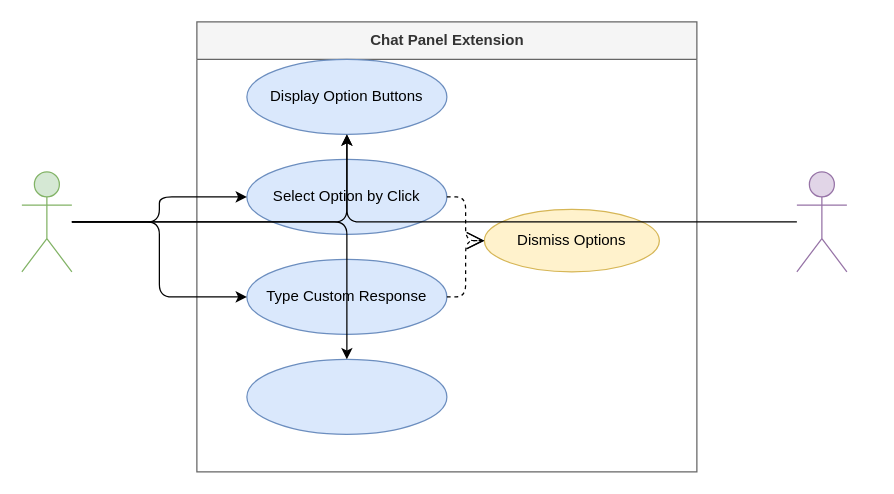
The diagram is 894 pixels wide and 494 high, and some of its shapes have lost their labels. Each missing label, with the box of its shape:
Extension Host: (796, 171, 847, 272)
Keyboard Navigation: (246, 358, 447, 434)
User: (21, 171, 72, 272)
